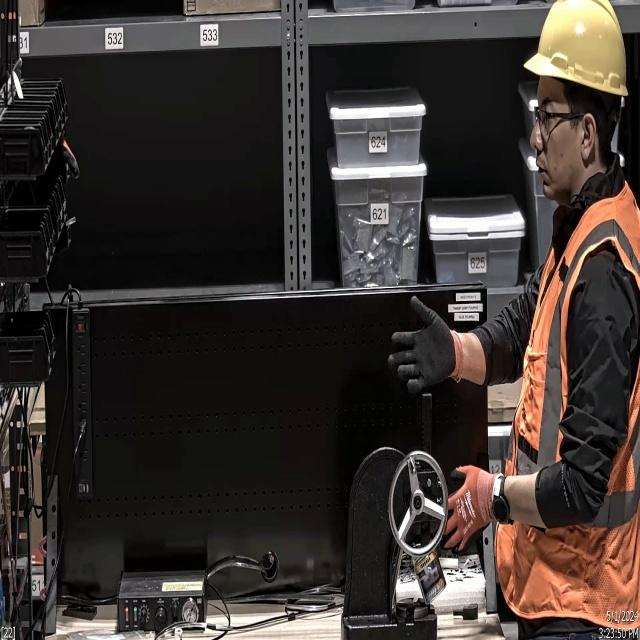gloves: (384, 292, 465, 401), (433, 458, 504, 561)
